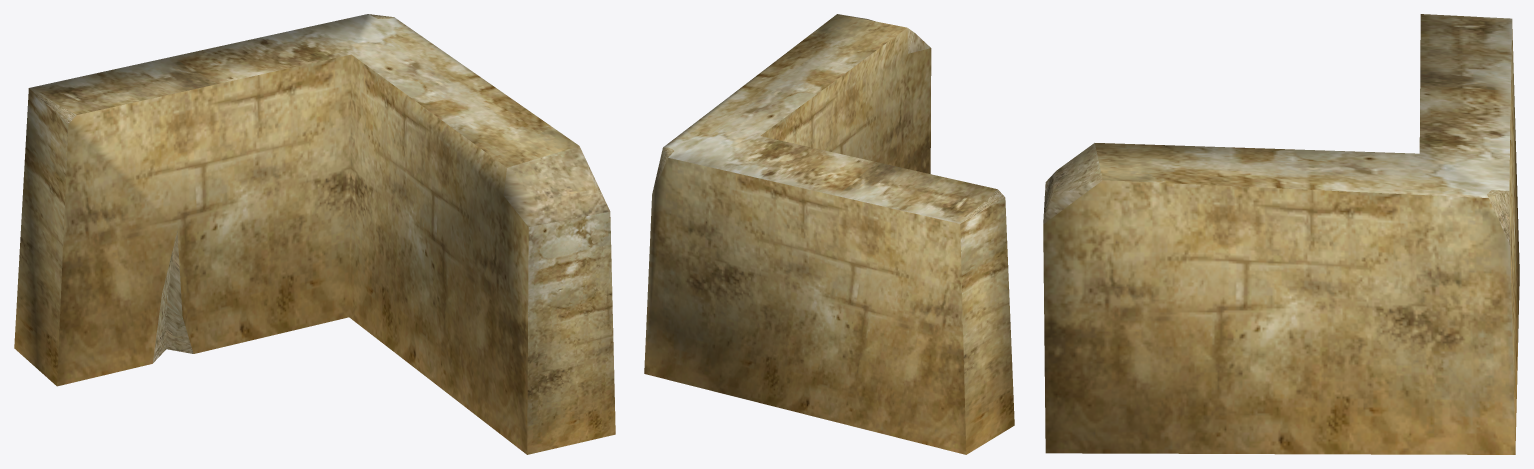
Rendered from S_Build_Desert032.FBX.
3 views of the same model, side by side, from view 1: azimuth 30°, elevation 25°; view 2: azimuth 150°, elevation 25°; view 3: azimuth 270°, elevation 25° (orthographic). The views are drawn at different scales.
Parts seen in each view (by area): view 1: S_Build_Desert032; view 2: S_Build_Desert032; view 3: S_Build_Desert032.
Boxes of the visible parts, bbox=[...] form: S_Build_Desert032: bbox=[14, 14, 615, 454]; S_Build_Desert032: bbox=[644, 14, 1014, 454]; S_Build_Desert032: bbox=[1043, 14, 1519, 454].
Size of the model in its own units: 272 by 296 by 184.
